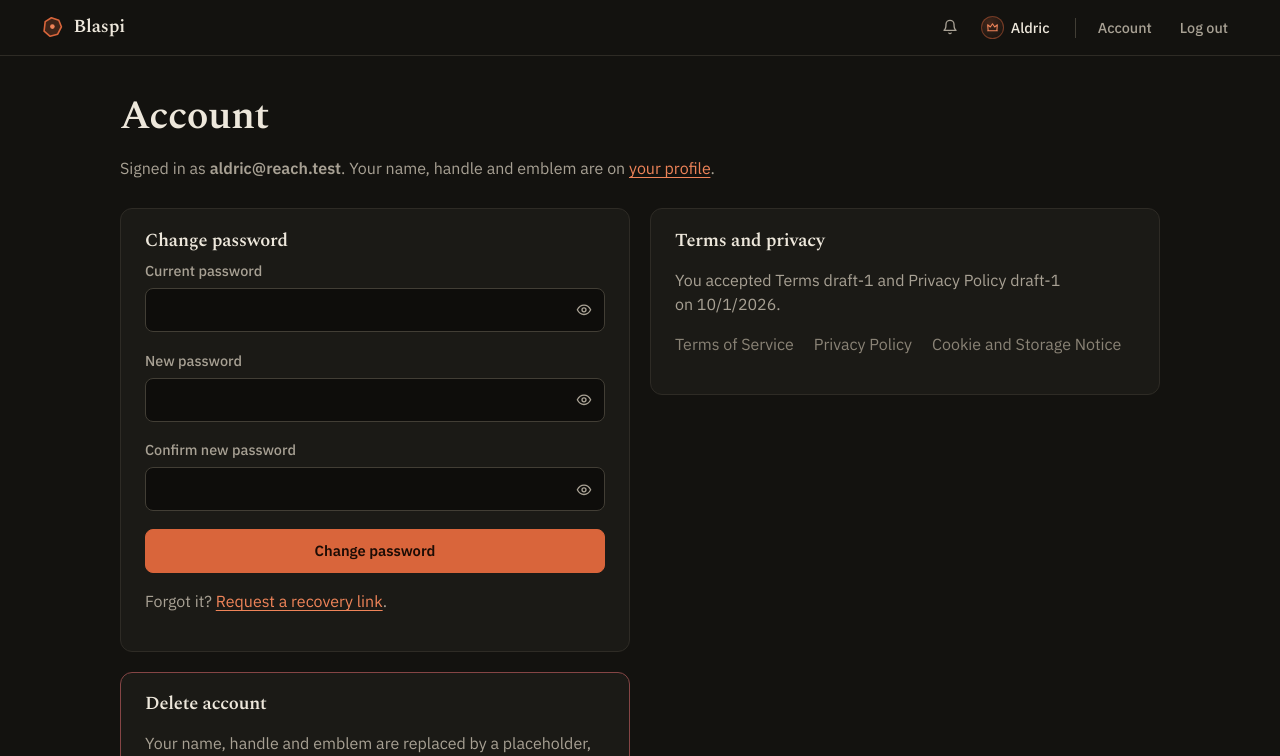
Test case: AccountPage › does not change the password when the current one is wrong
The width and height of the screenshot is (1280, 756).
Type "wrong" into the password field labelled "Current password" at (375, 310), box top-left (145, 288), bottom-right (605, 332)
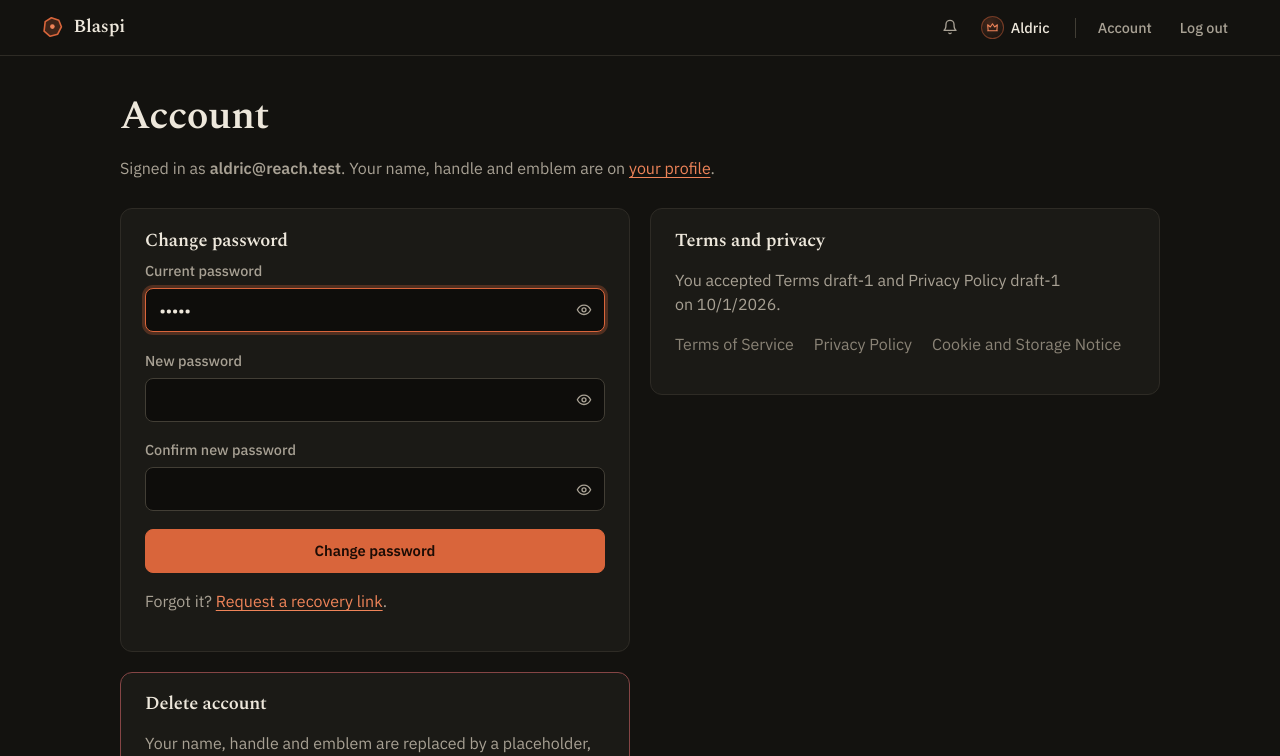
Type "new-password-1" into the password field labelled "New password" at (375, 400), box top-left (145, 378), bottom-right (605, 422)
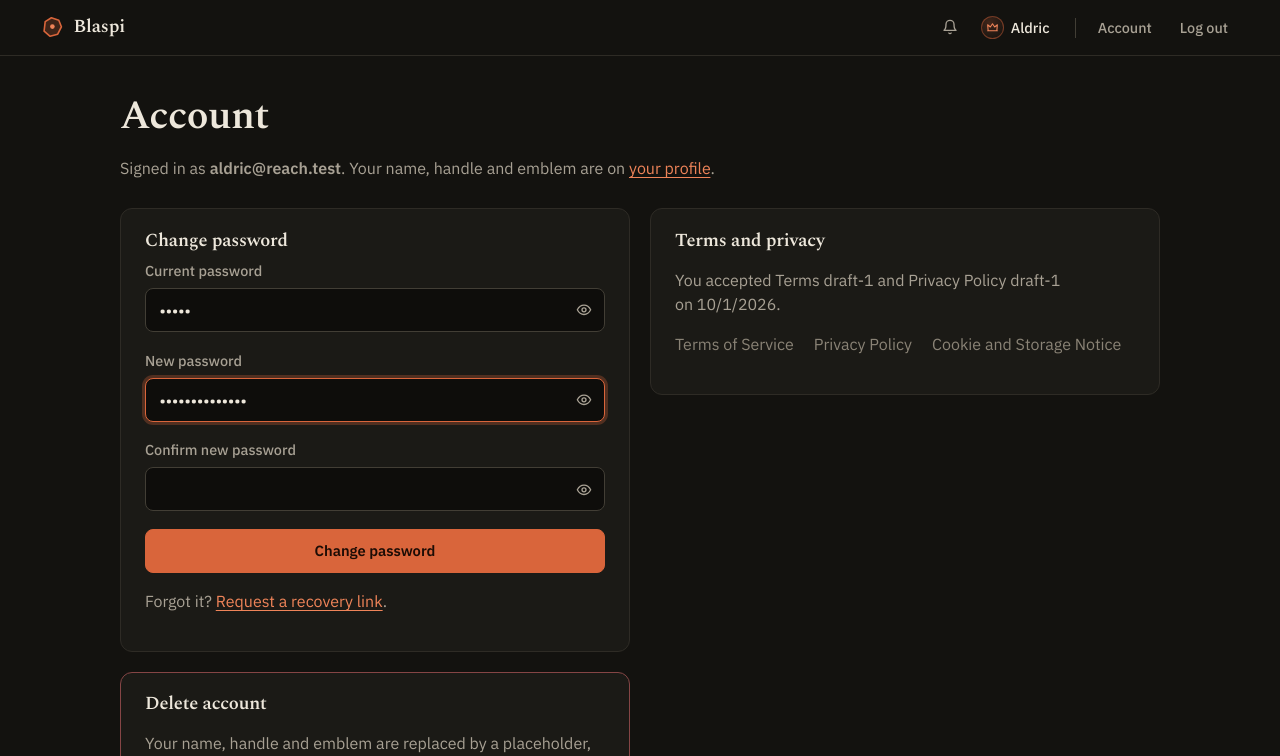
Type "new-password-1" into the password field labelled "Confirm new password" at (375, 489), box top-left (145, 467), bottom-right (605, 511)
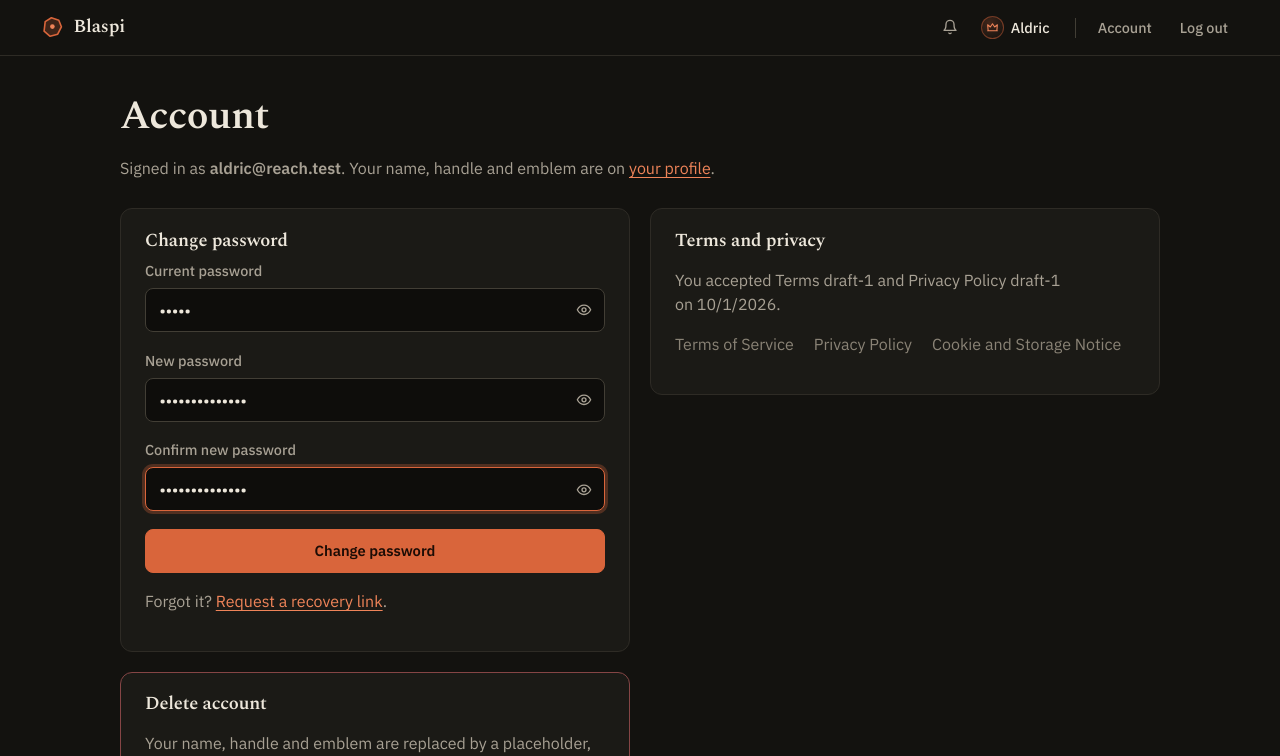
Click the button "Change password" at (375, 551), box top-left (145, 529), bottom-right (605, 573)
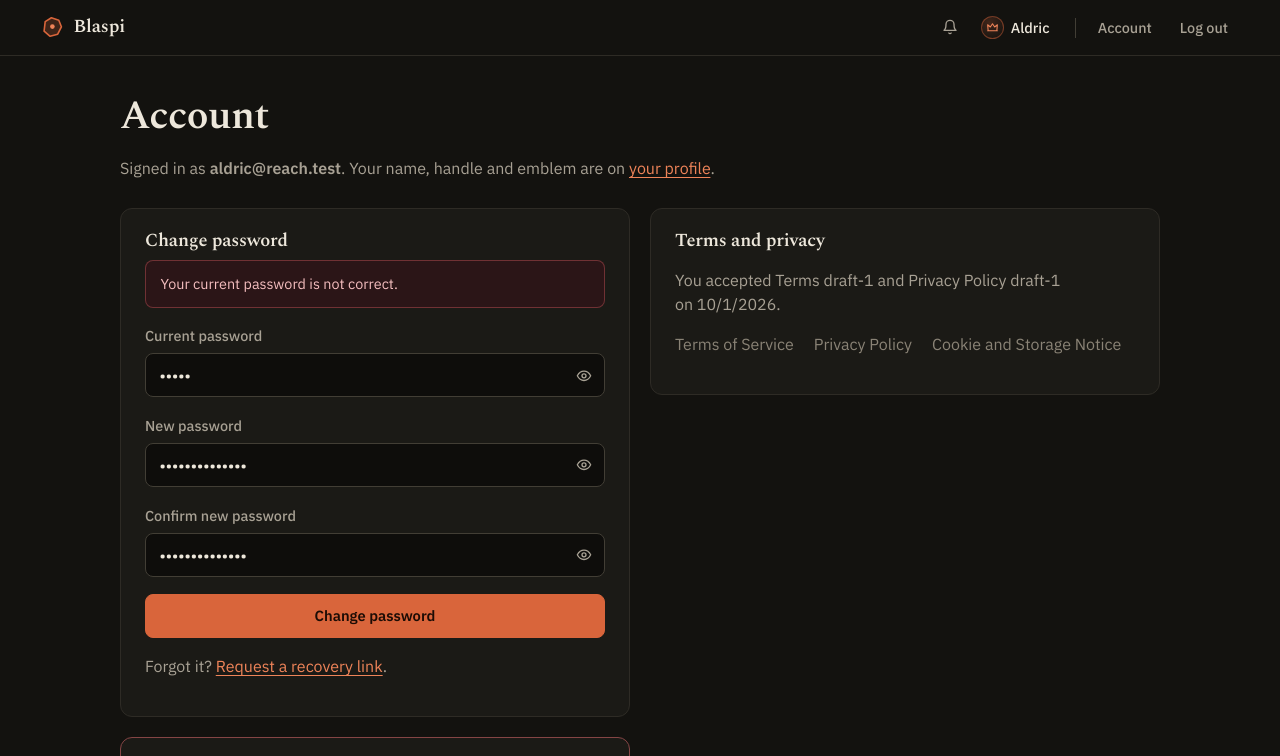
Expected: the message shows "not correct", top-left (160, 274), bottom-right (398, 293)
